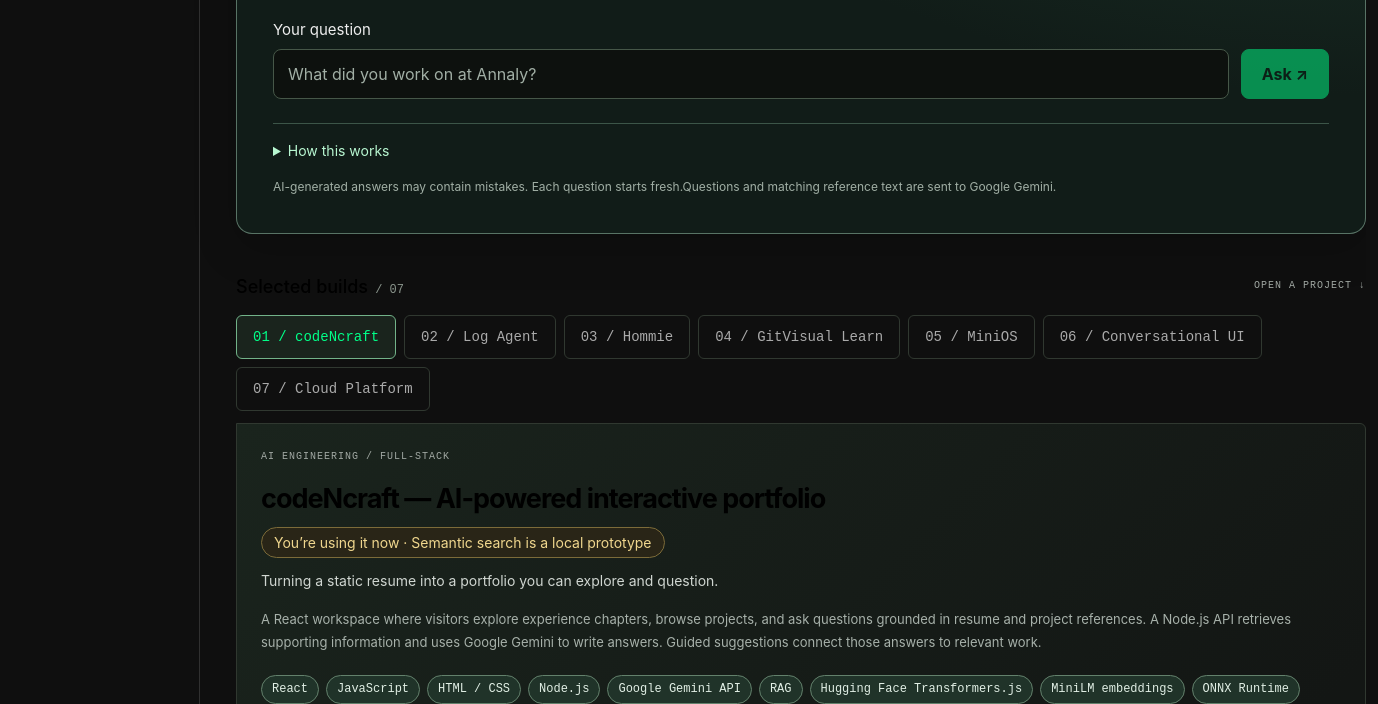
Test: opens 05 / MiniOS without GitHub links
(page scrolled)
Click the button "05 / MiniOS". click: (971, 337)
box: [908,315,1035,359]
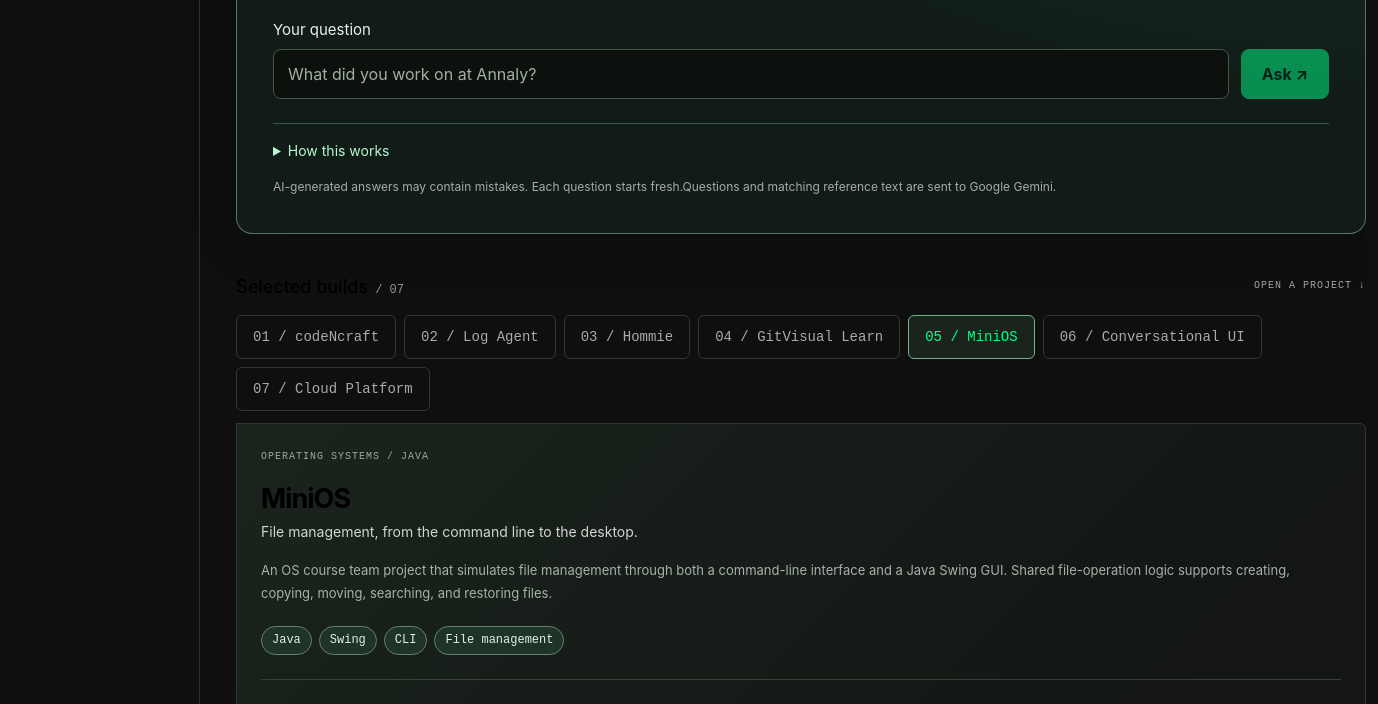
Expected: the heading "MiniOS" is shown, [261,482,350,515]
